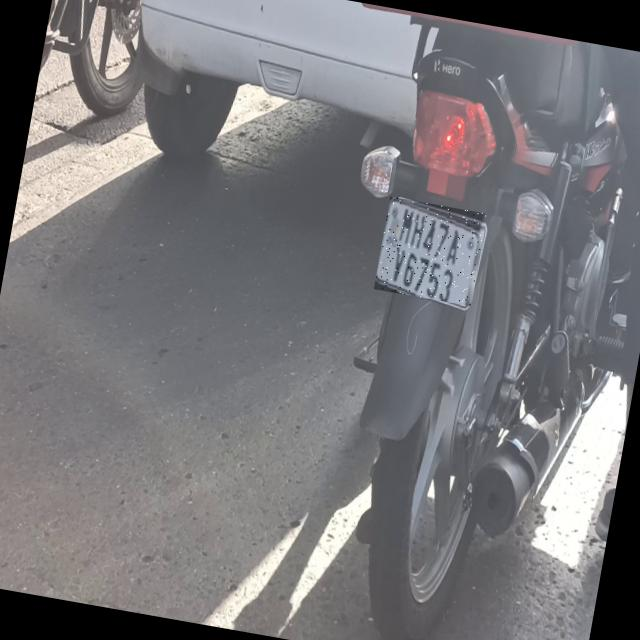Plate: (375, 197, 488, 307)
